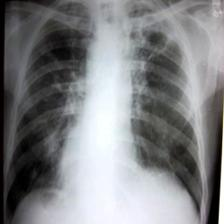tuberculosis: (6, 1, 206, 223)
